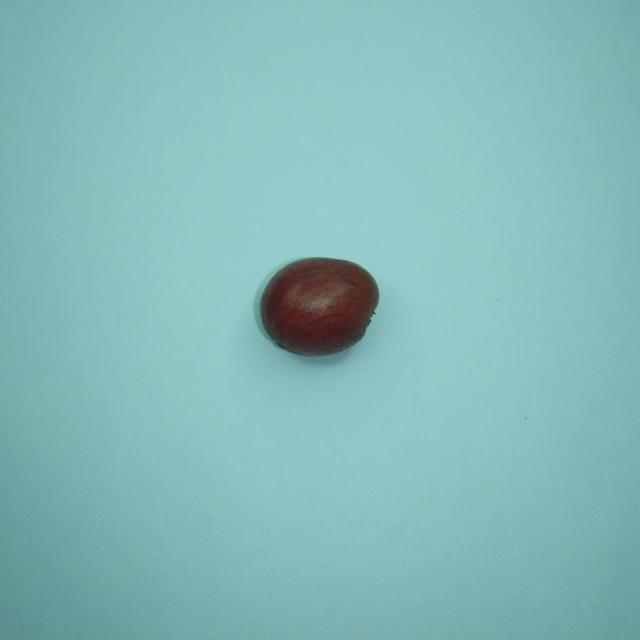Sano: (260, 258, 378, 355)
